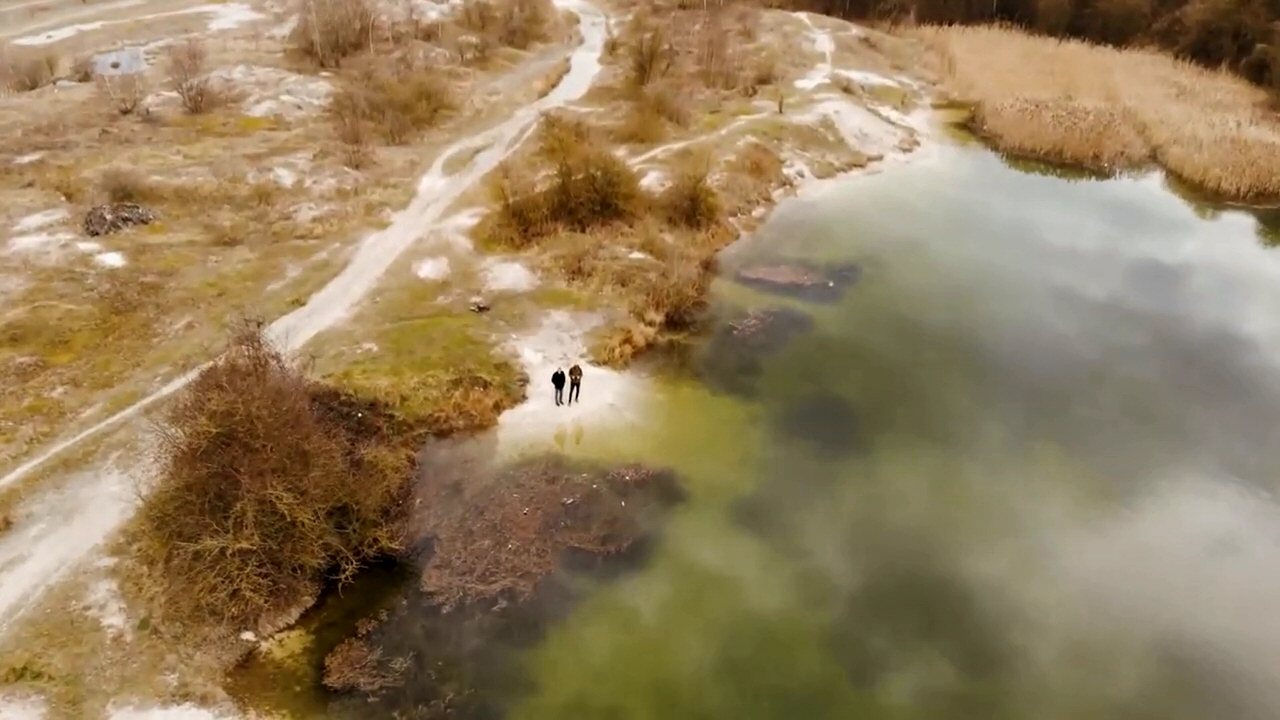insan: (549, 363, 569, 412), (570, 362, 586, 406)
